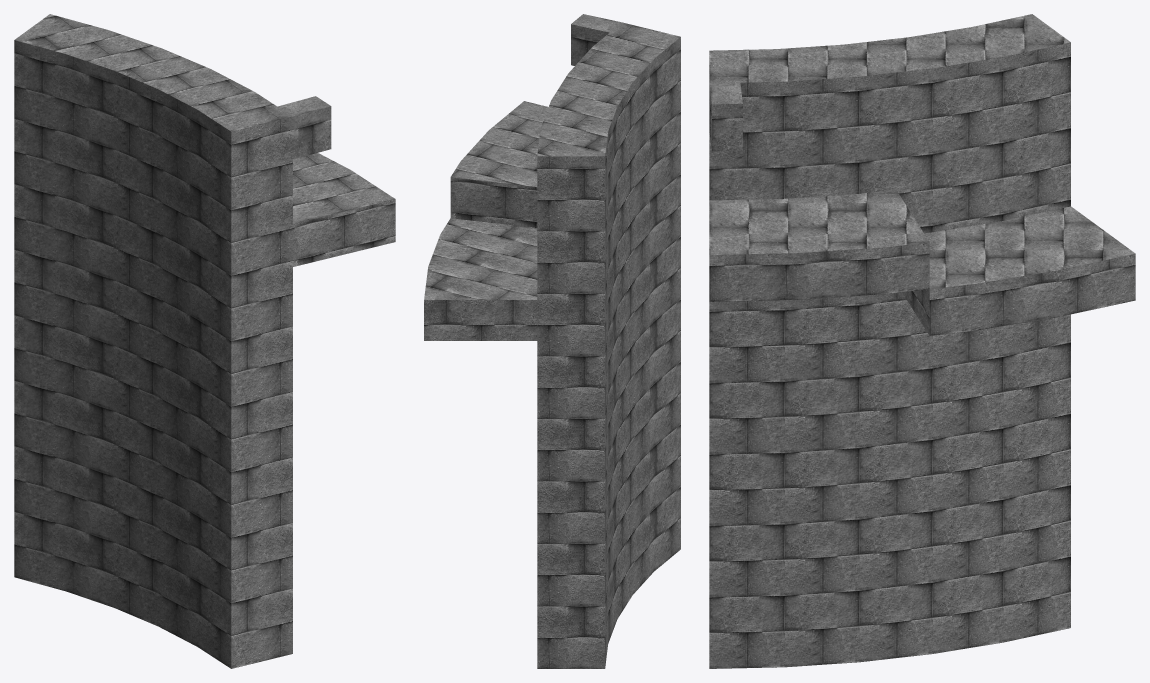
File: tile7.dae
The picture shows the model from 3 angles, left to right: view 1: azimuth 30°, elevation 25°; view 2: azimuth 150°, elevation 25°; view 3: azimuth 270°, elevation 25°; orthographic projection. The views are drawn at different scales.
Parts seen in each view (by area): view 1: SketchUp; view 2: SketchUp (×2); view 3: SketchUp.
Part boxes in pixels (x1=…): SketchUp: x1=14, y1=14, x2=395, y2=668; SketchUp (×2): x1=424, y1=14, x2=680, y2=668; SketchUp: x1=709, y1=14, x2=1135, y2=668.
Size of the model in its own units: 44.68 by 64.96 by 98.43.
1 material, 1 textured.
